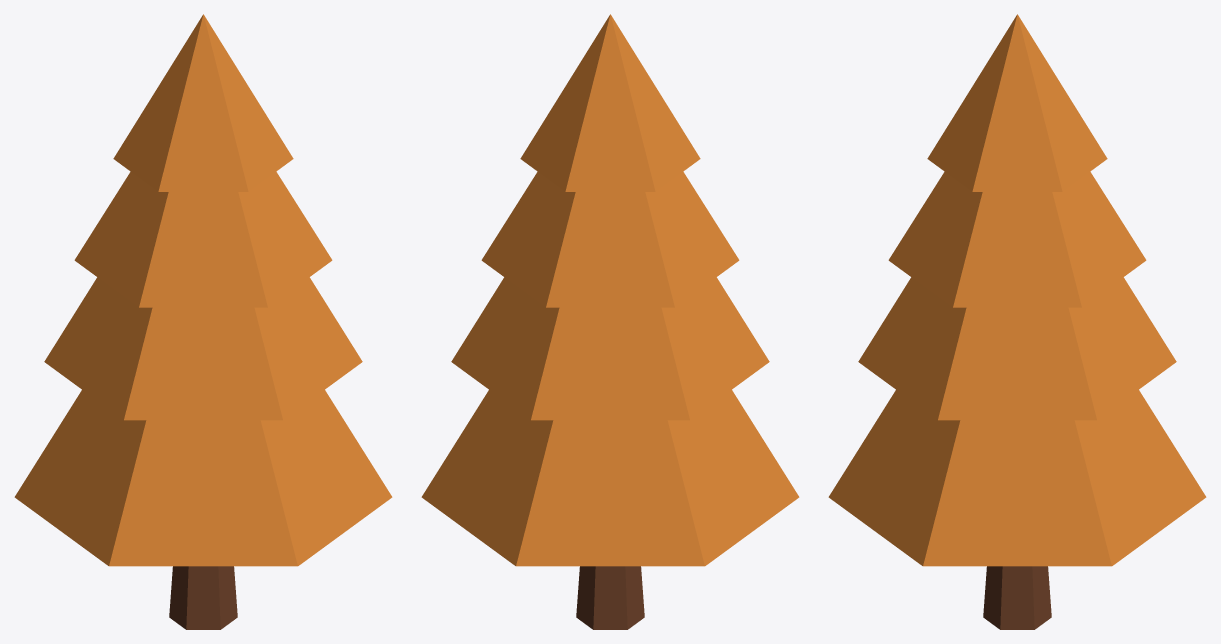
Rendered from Tree_Autumn.fbx.
The picture shows the model from 3 angles, left to right: view 1: azimuth 30°, elevation 25°; view 2: azimuth 150°, elevation 25°; view 3: azimuth 270°, elevation 25°; orthographic projection.
Parts seen in each view (by area): view 1: Tree_Autumn; view 2: Tree_Autumn; view 3: Tree_Autumn.
Part boxes in pixels (x1,y1,x2,y2): Tree_Autumn: [14, 14, 392, 629]; Tree_Autumn: [421, 14, 799, 629]; Tree_Autumn: [828, 14, 1206, 629].
Size of the model in its own units: 175 by 357 by 203.
